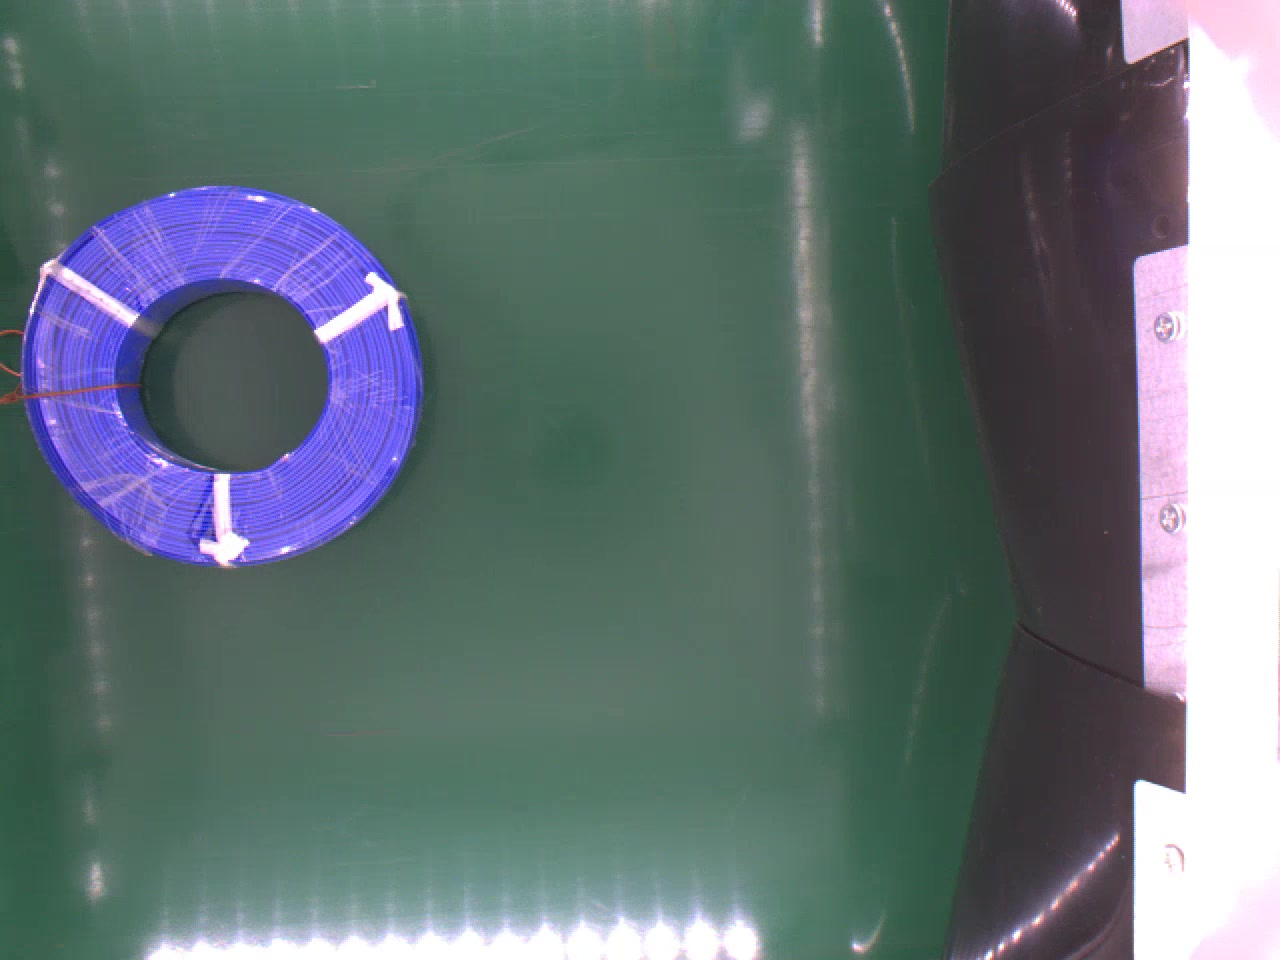blue: (23, 183, 419, 564)
